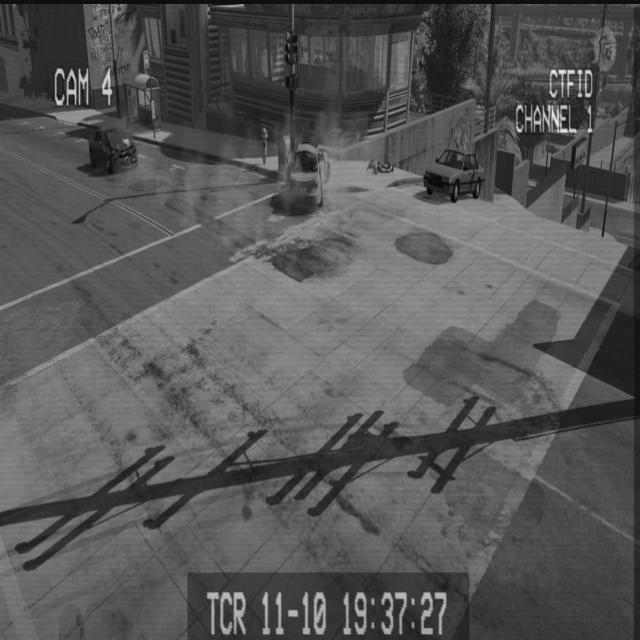accident: (286, 134, 330, 216), (89, 120, 139, 183)
vehicle: (423, 145, 484, 201)
